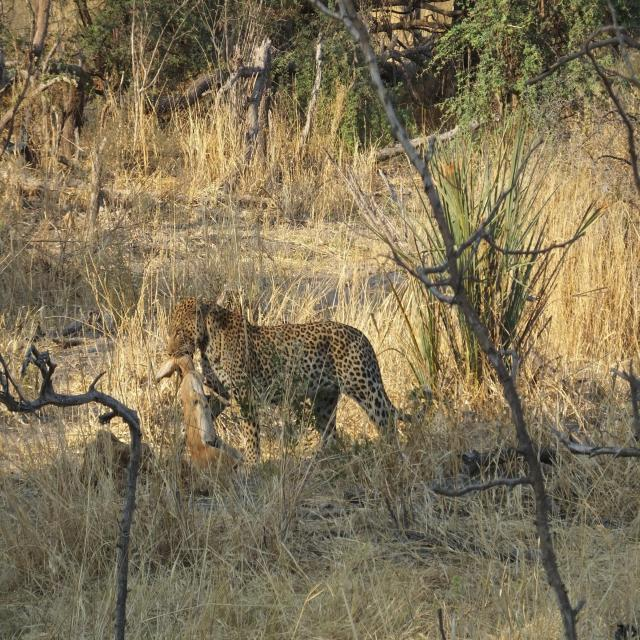Leopard: (151, 299, 420, 466)
